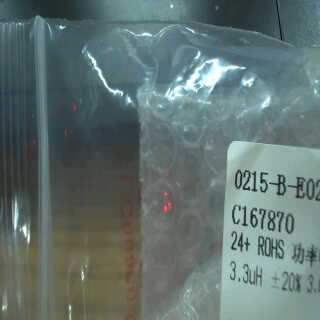3.3uH: (217, 254, 263, 292)
